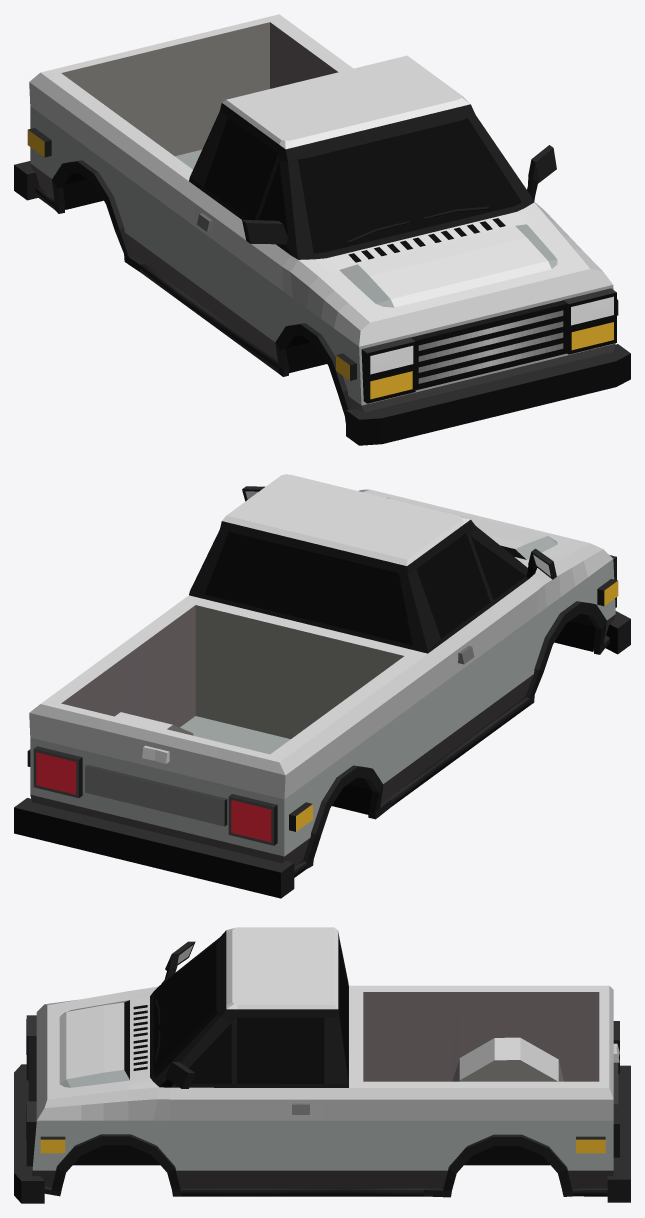
The model's file is PickUp.fbx.
The picture shows the model from 3 angles, top to bottom: view 1: azimuth 30°, elevation 25°; view 2: azimuth 150°, elevation 25°; view 3: azimuth 270°, elevation 25°; orthographic projection. The views are drawn at different scales.
Parts seen in each view (by area): view 1: PickUp; view 2: PickUp; view 3: PickUp.
Boxes of the visible parts, x1,y1,x2,y2 form: PickUp: [14, 14, 630, 445]; PickUp: [14, 474, 630, 898]; PickUp: [14, 927, 630, 1203].
Bounding box in the file's own units: 2.02 × 1.28 × 4.
